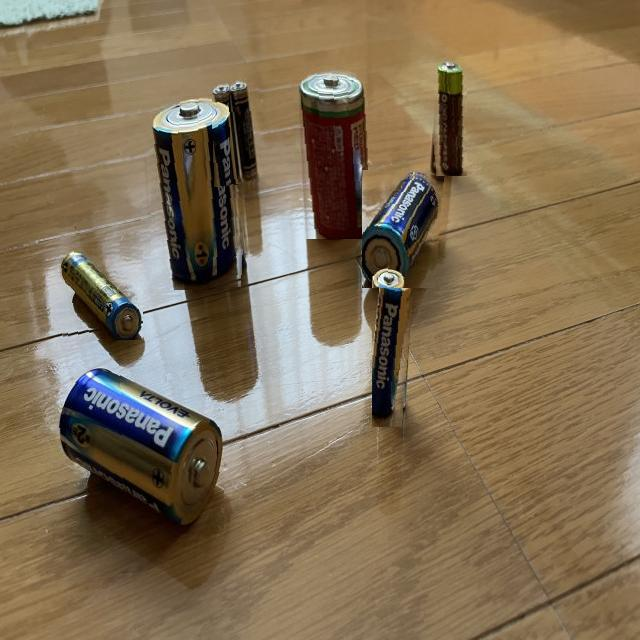battery: (52, 360, 224, 535), (152, 96, 252, 292), (294, 67, 368, 239), (362, 170, 444, 288), (57, 242, 143, 340), (372, 262, 415, 427), (426, 56, 468, 176), (211, 78, 243, 187), (230, 78, 260, 184)
